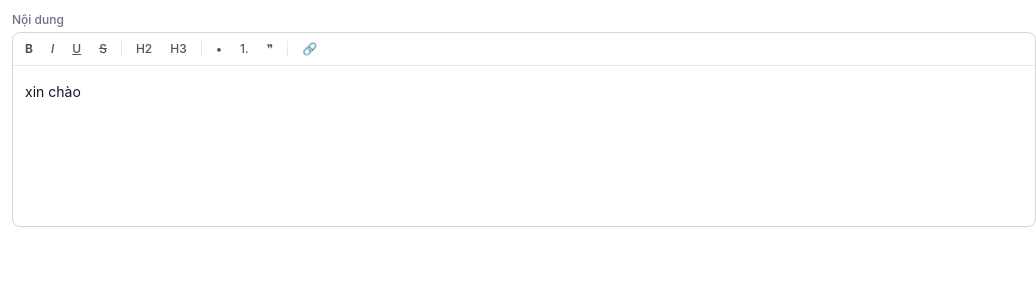
Test: RichTextEditor — the link box › refuses a javascript: URL with a message, and writes no anchor at all
The width and height of the screenshot is (1036, 303).
Click the button named "Liên kết" at (310, 49), box [294,37,325,61]
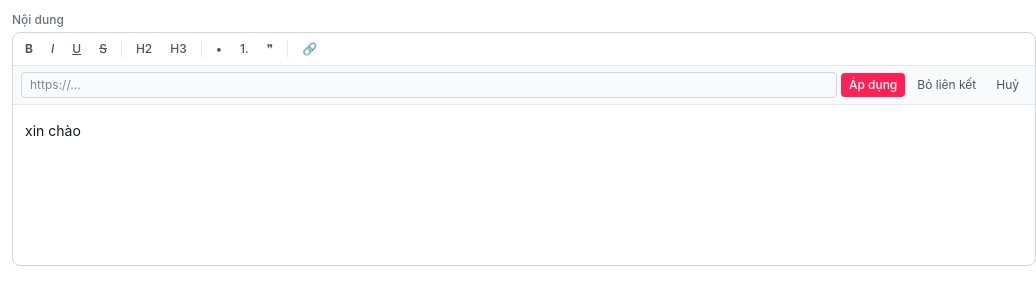
Type "javascript:alert(1)" into the field named "Đường dẫn liên kết" at (429, 85), box [21,72,837,98]
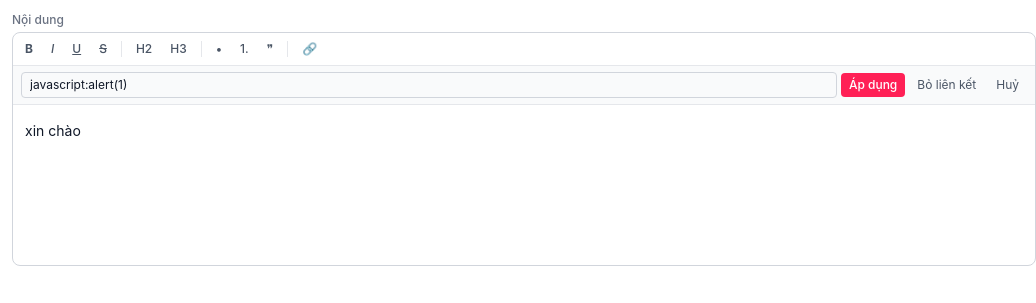
Click the button "Áp dụng" at (873, 85), box [841,73,905,97]
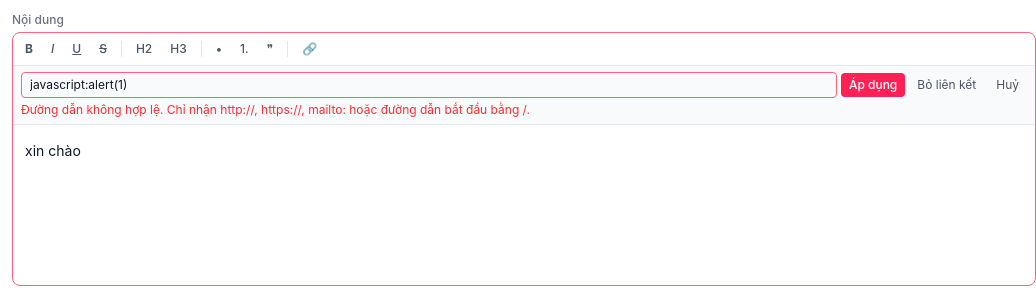
Expected: the message shows "không hợp lệ", [21,102,530,117]
